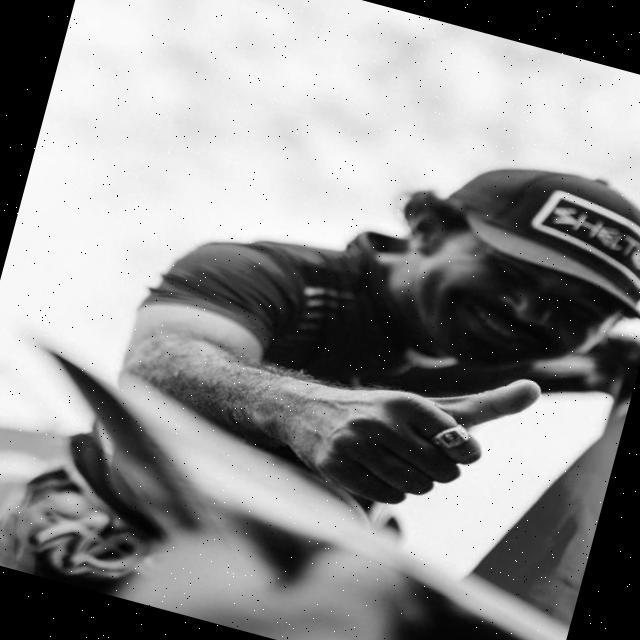Happiness: (392, 220, 638, 404)
